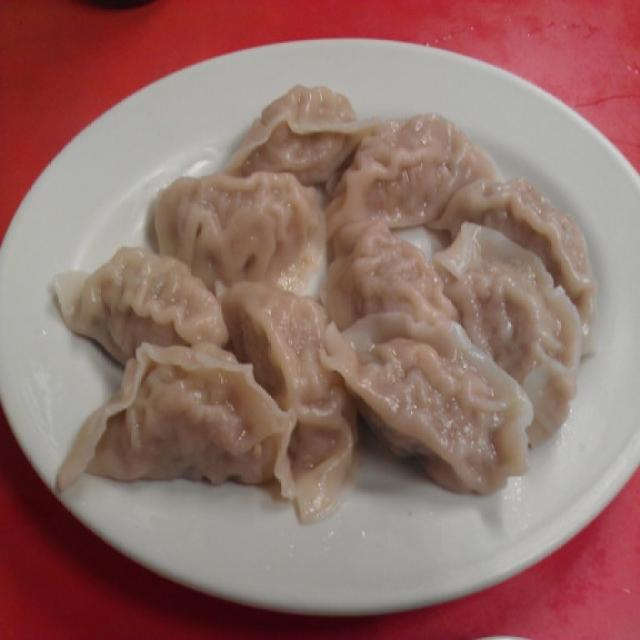带馅早点: (34, 41, 614, 584)
